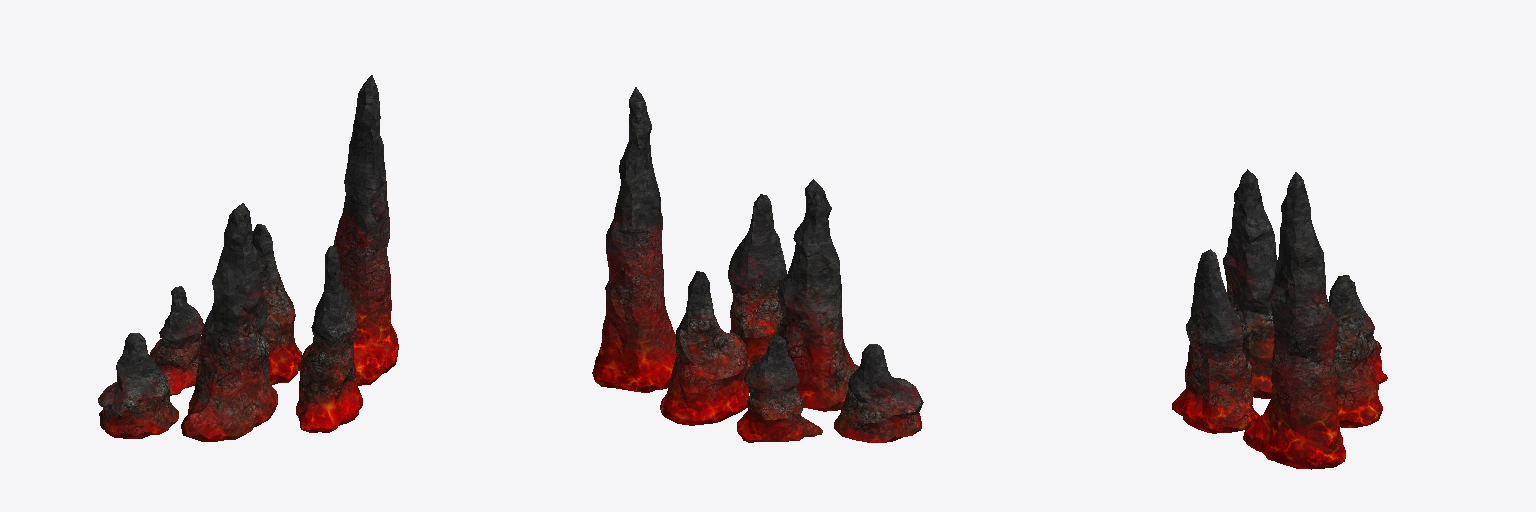
3 views of the same model, side by side, from view 1: azimuth 30°, elevation 25°; view 2: azimuth 150°, elevation 25°; view 3: azimuth 270°, elevation 25° (orthographic).
Parts seen in each view (by area): view 1: Picos_nieve_Picos; view 2: Picos_nieve_Picos; view 3: Picos_nieve_Picos.
Part boxes in pixels (left/top/right/bottom): Picos_nieve_Picos: left=98, top=75, right=398, bottom=441; Picos_nieve_Picos: left=592, top=87, right=923, bottom=442; Picos_nieve_Picos: left=1172, top=169, right=1387, bottom=469.
Size of the model in its own units: 2.33 by 2.11 by 1.42.
Materials: 1 (1 with a texture image).